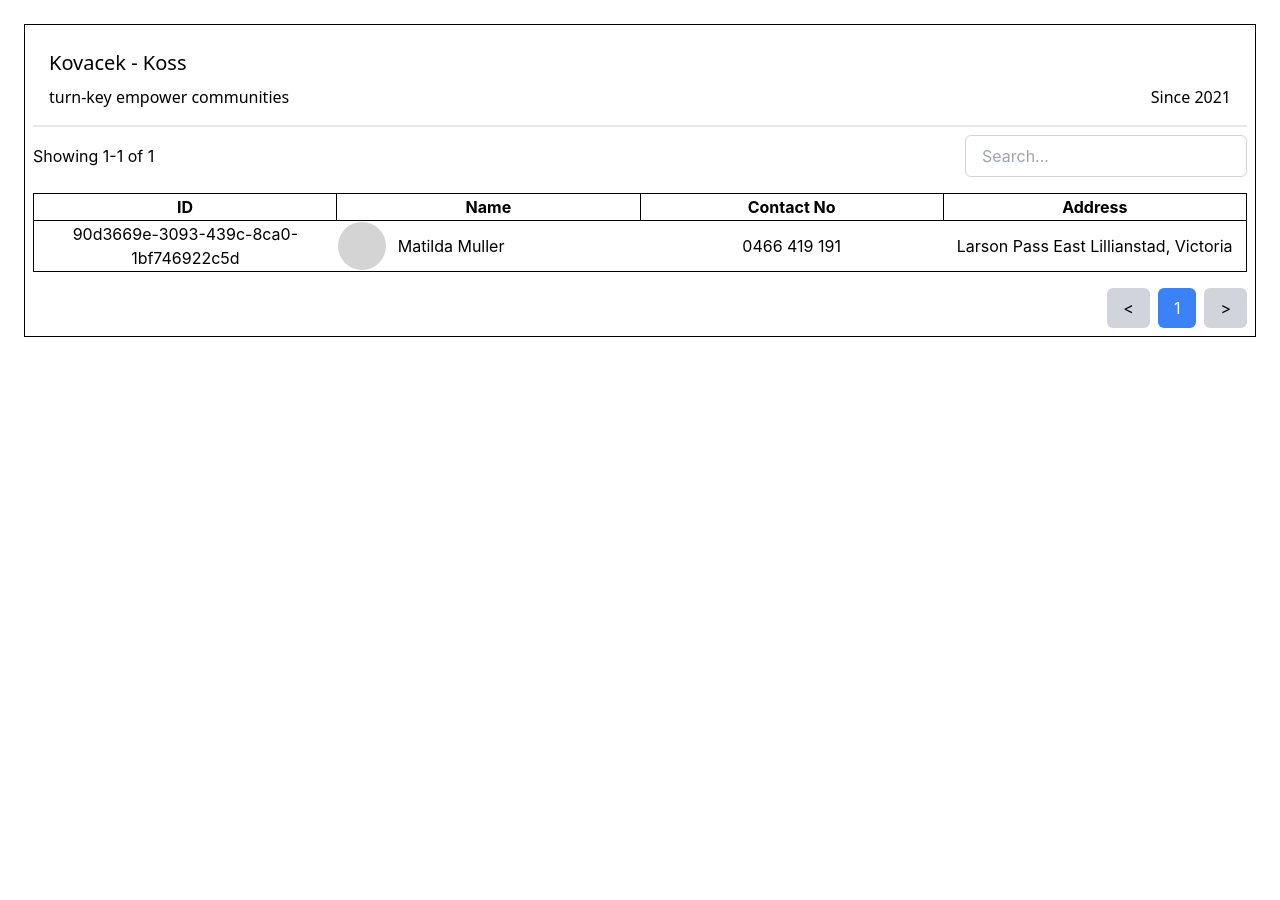
Test: EmployeeData Component › should render employee table and handle row click
Expected: the text "90d3669e-3093-439c-8ca0-1bf746922c5d" is shown, x1=73 y1=224 x2=298 y2=268
Click the text "90d3669e-3093-439c-8ca0-1bf746922c5d".
click(185, 234)  # box x1=34 y1=220 x2=1246 y2=272
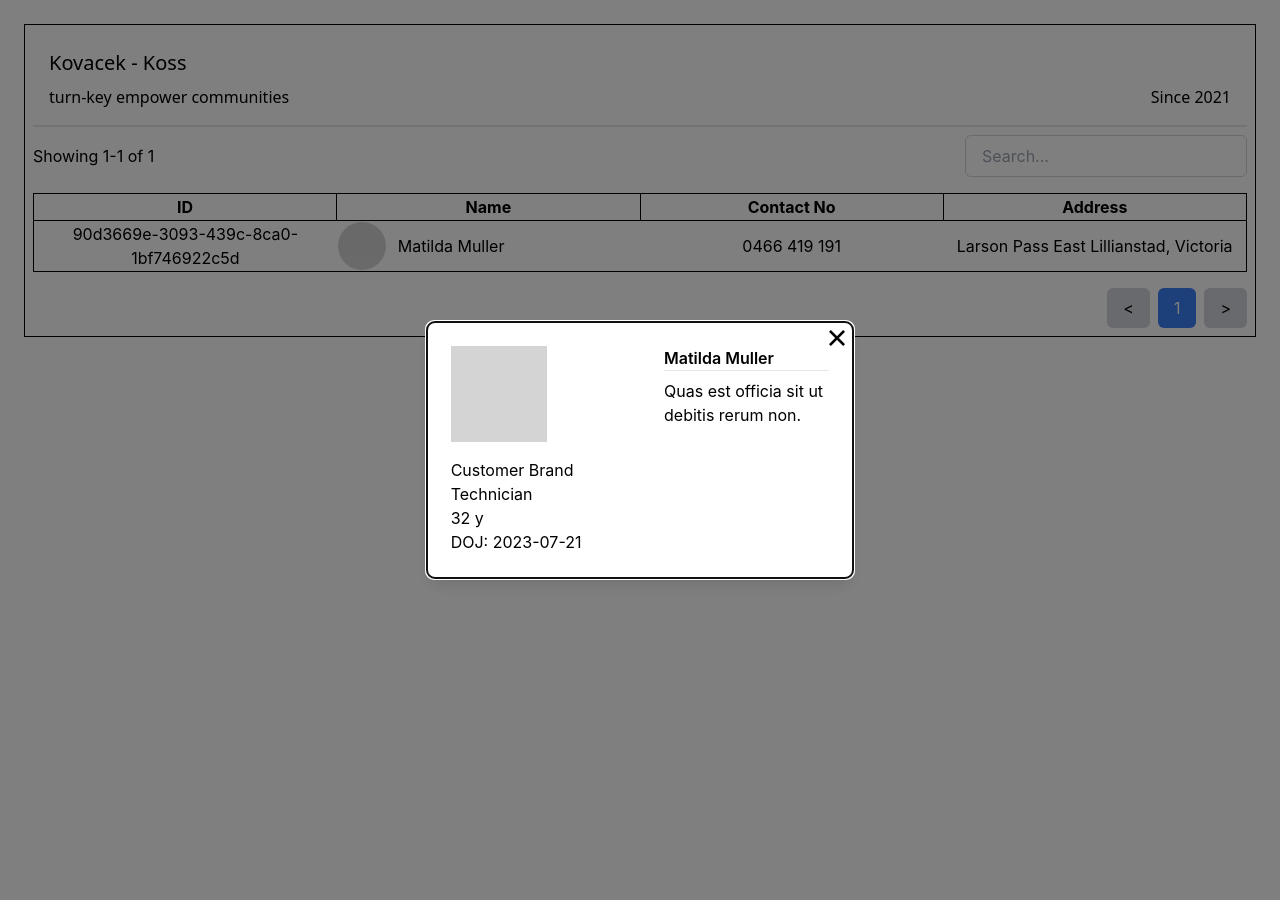
Now the text "Customer Brand Technician" is shown, box x1=451 y1=460 x2=574 y2=504
Now the text "32 y" is shown, box x1=451 y1=506 x2=484 y2=530
Now the text "DOJ: 2023-07-21" is shown, box x1=451 y1=530 x2=582 y2=554
